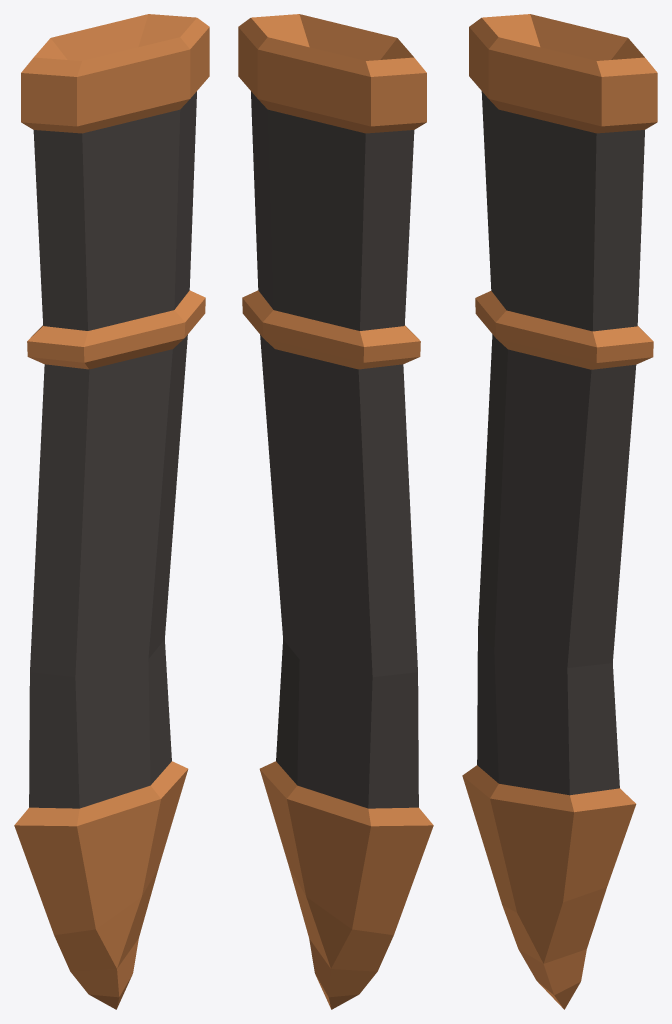
File: SM_pwe_persia_dagger_scabbard_01.fbx
3 renders of one model, left to right at view 1: azimuth 30°, elevation 25°; view 2: azimuth 150°, elevation 25°; view 3: azimuth 330°, elevation 25°, orthographic.
Visible parts, largest first — view 1: SM_pwe_persia_dagger_scabbard_01; view 2: SM_pwe_persia_dagger_scabbard_01; view 3: SM_pwe_persia_dagger_scabbard_01.
Part boxes in pixels (bbox=[...]): SM_pwe_persia_dagger_scabbard_01: bbox=[14, 14, 209, 1009]; SM_pwe_persia_dagger_scabbard_01: bbox=[238, 14, 433, 1009]; SM_pwe_persia_dagger_scabbard_01: bbox=[462, 14, 657, 1009].
Size of the model in its own units: 7.96 by 37.84 by 2.58.
